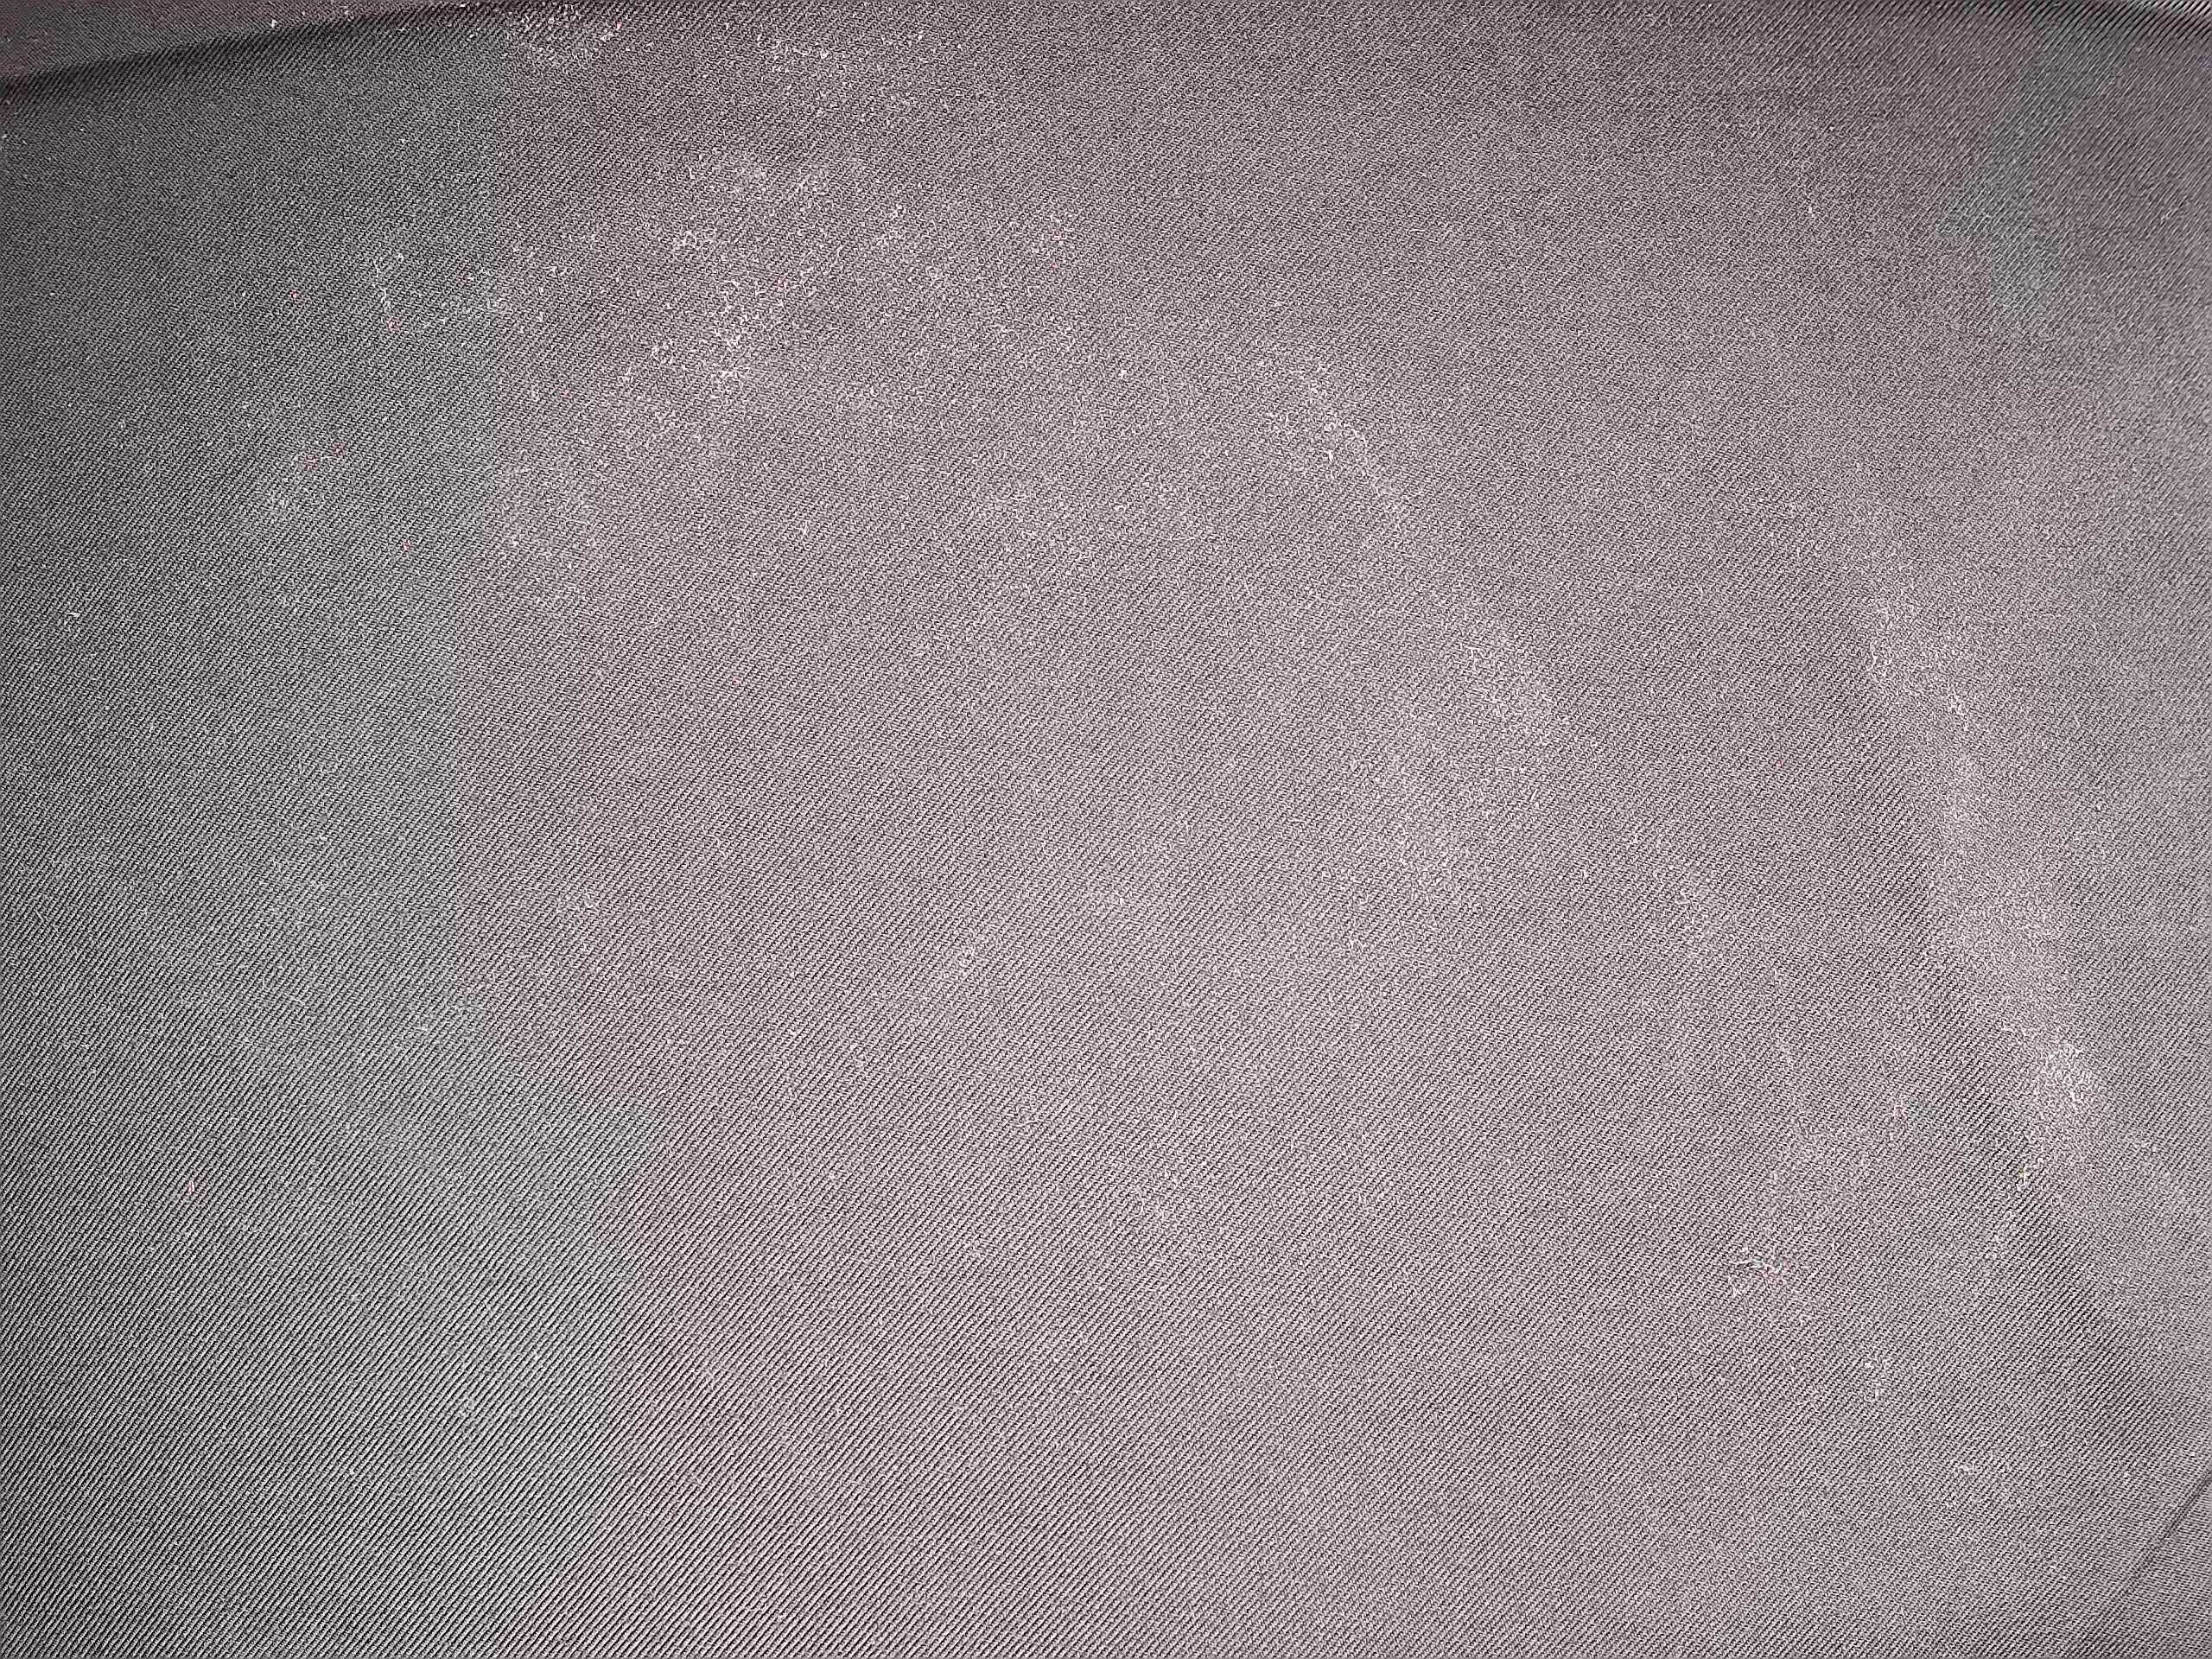stains: (365, 31, 1024, 543), (1833, 603, 2170, 1249), (1266, 368, 1594, 916)
